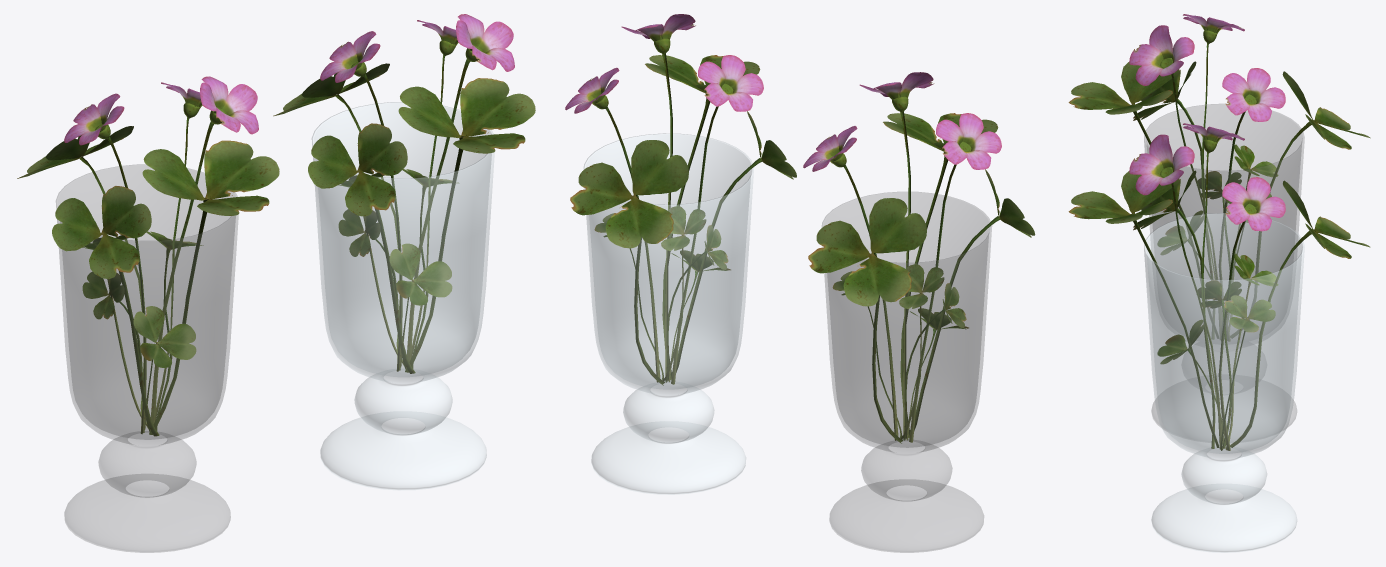
File: flowers_vase.glb
3 views of the same model, side by side, from view 1: azimuth 30°, elevation 25°; view 2: azimuth 150°, elevation 25°; view 3: azimuth 270°, elevation 25° (orthographic). The views are drawn at different scales.
Parts seen in each view (by area): view 1: GlassTransmission, GlassAlpha, Flowers1, Flowers2; view 2: GlassTransmission, GlassAlpha, Flowers1, Flowers2; view 3: GlassTransmission, GlassAlpha, Flowers2, Flowers1.
Part boxes in pixels (x1,y1,x2,y2): GlassTransmission: (312, 102, 494, 490); GlassAlpha: (56, 164, 238, 552); Flowers1: (17, 76, 279, 436); Flowers2: (273, 14, 535, 373); GlassTransmission: (584, 133, 753, 494); GlassAlpha: (822, 192, 991, 552); Flowers1: (803, 72, 1035, 443); Flowers2: (565, 14, 796, 385); GlassTransmission: (1144, 213, 1304, 552); GlassAlpha: (1144, 104, 1304, 430); Flowers2: (1068, 123, 1370, 450); Flowers1: (1068, 14, 1370, 341).
Bounding box in the file's own units: 0.2173 × 0.2032 × 0.1425.
3 materials, 1 textured.
